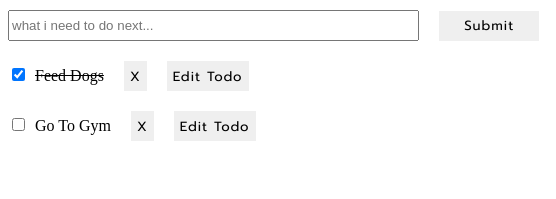
Test: edits todo
Click the button "Edit Todo" in the row of "Feed Dogs" at point(208, 76), box [167,61,249,91]
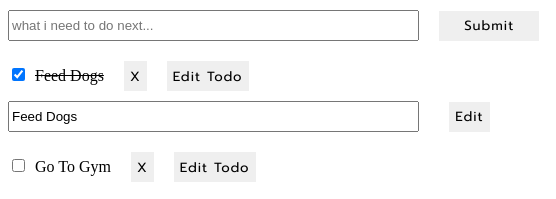
Expected: the form with test id "Feed Dogs" is shown, [8,101,490,132]
Replace the text in the 2nd field with "Do Homework" at point(214, 116), box [8,101,419,132]
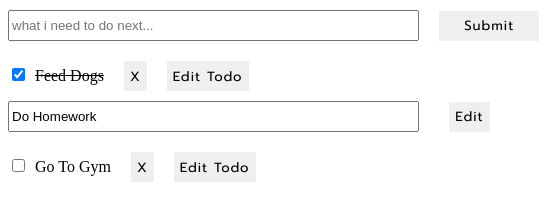
Click the button "Edit" at point(469, 116), box [449,102,490,132]
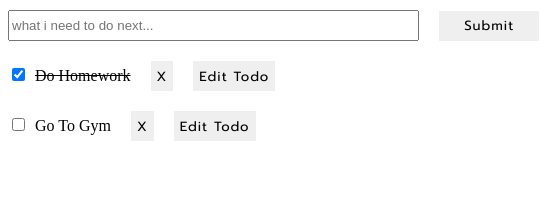
Expected: the text "Feed Dogs" is gone
Expected: the text "Do Homework" is shown, [35,66,130,84]
